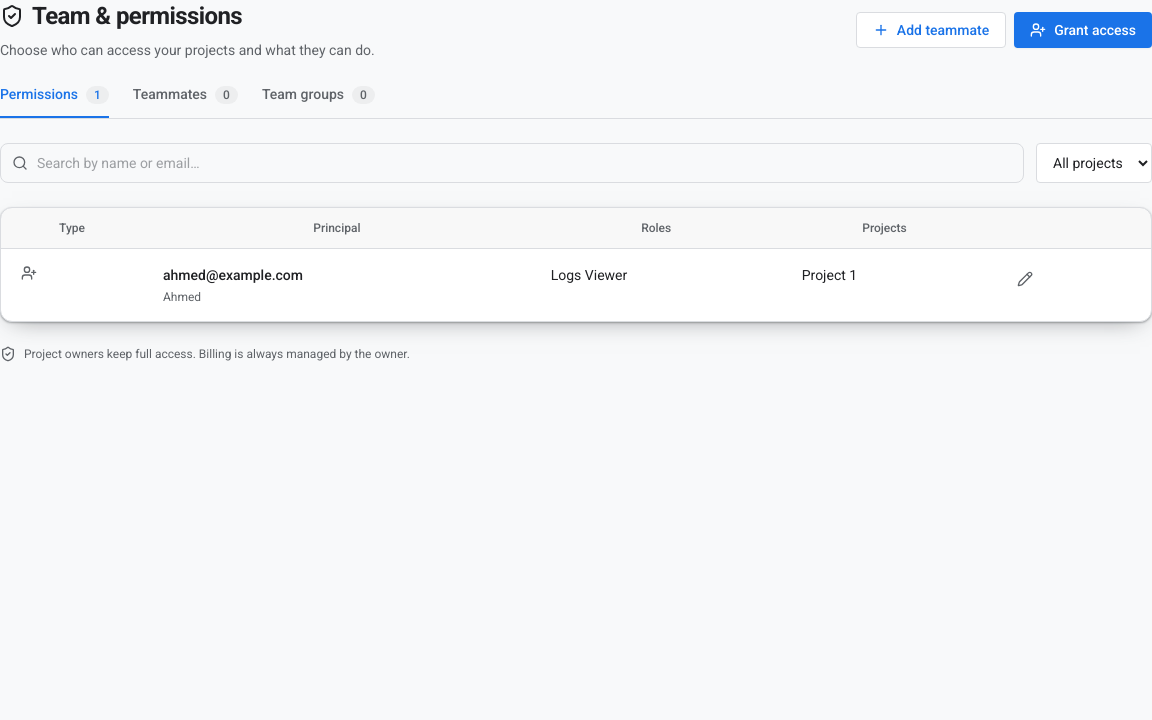
Test: Project Access › creates profiles before invitations and shows credentials only after creation
Click the button "Add teammate" at (931, 30), box [856,12,1006,48]
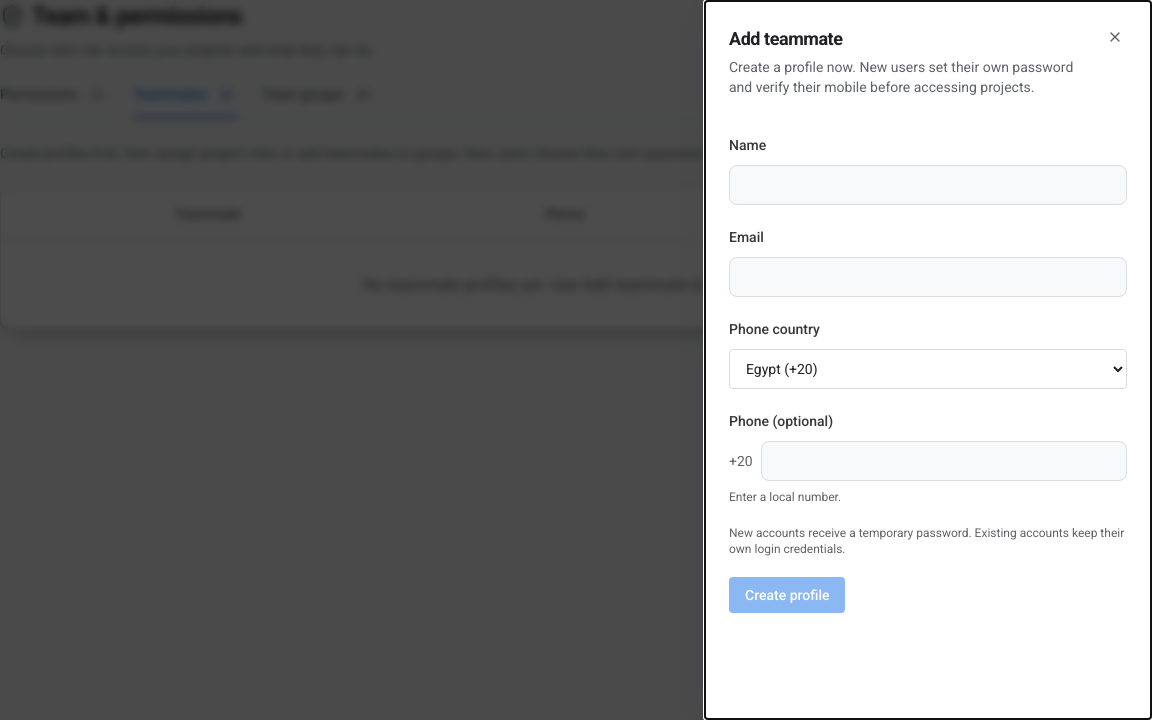
Type "New Teammate" into the field labelled "Name" at (928, 185), box [729,165,1127,205]
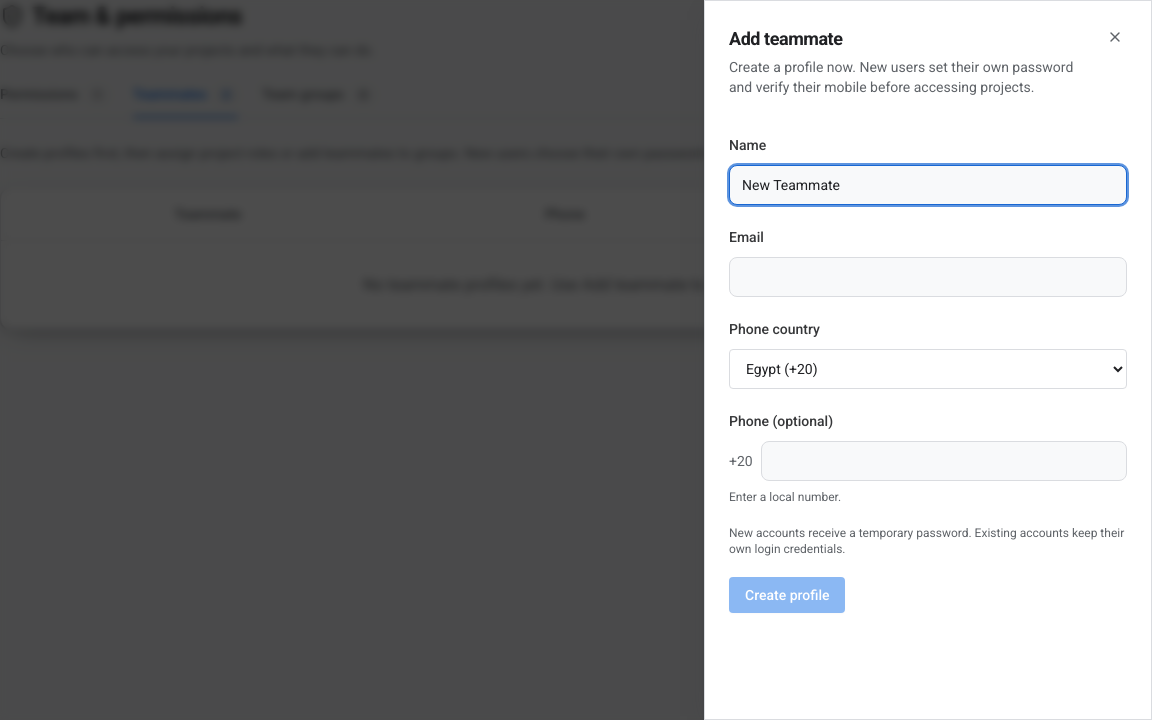
Type "new@example.com" into the field labelled "Email" at (928, 277), box [729,257,1127,297]
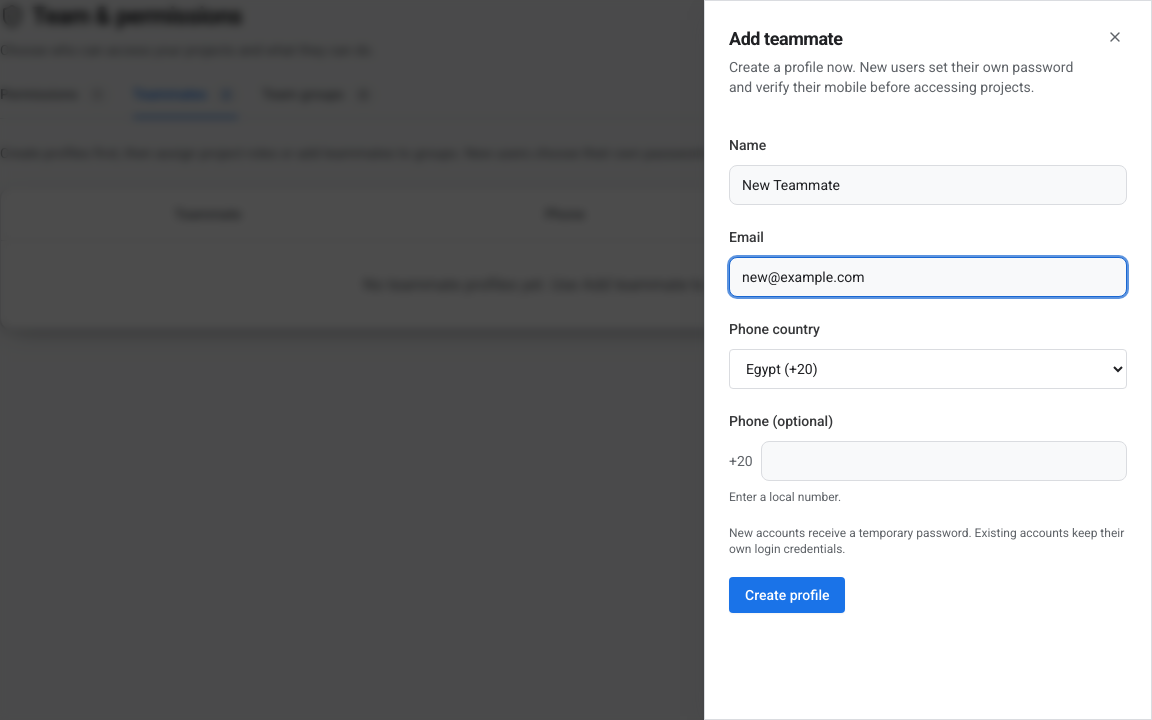
Check: the dropdown labelled "Phone country" shows "Egypt (+20)", box [729,349,1127,389]
Type "01012345678" into the field labelled "Phone (optional)" at (944, 461), box [761,441,1127,481]
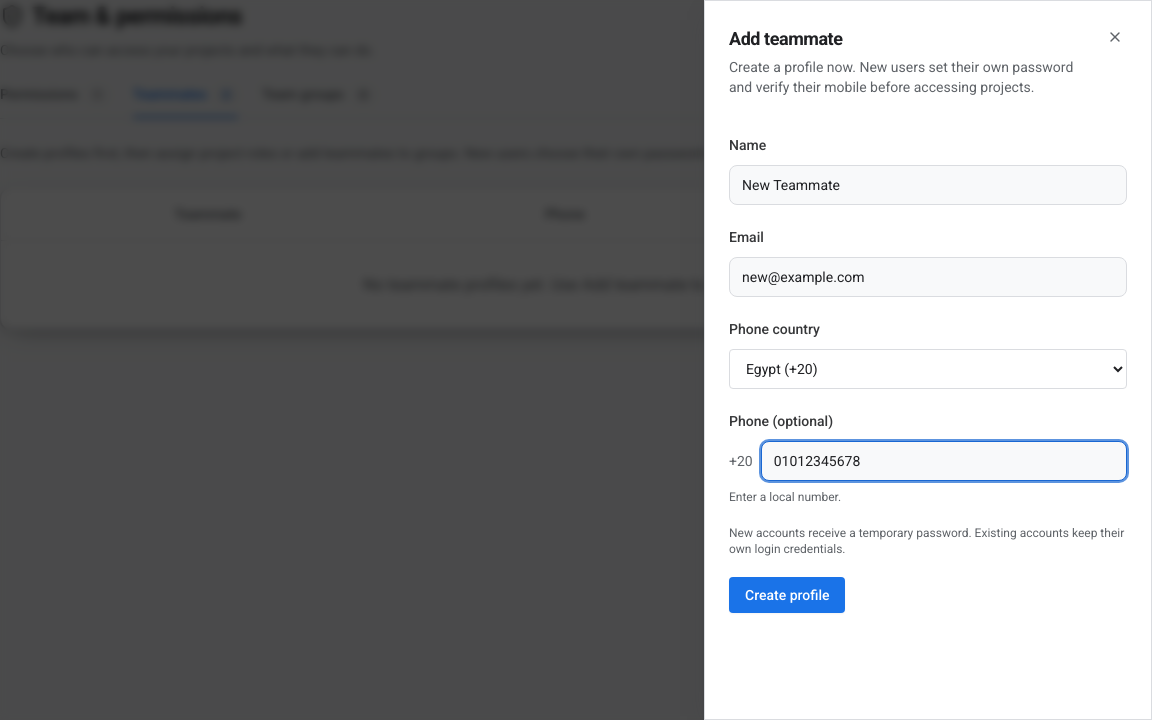
Click the button "Create profile" at (787, 595), box [729,577,846,613]
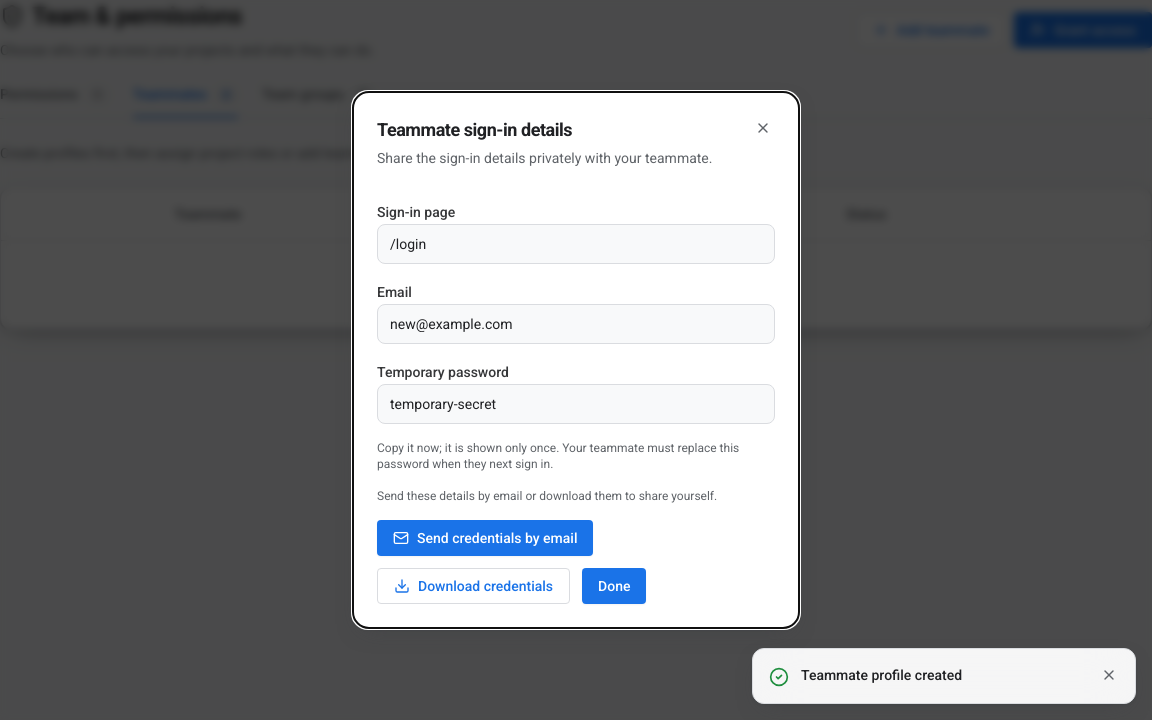
Check: the dialog "Teammate sign-in details" shows "shown only once", box [377,441,739,471]
Check: the 3rd field showing "temporary-secret" is shown, box [377,384,775,424]
